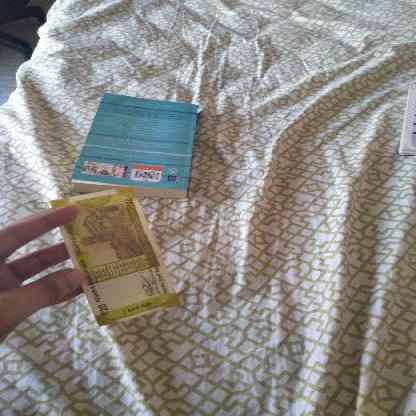New20Back: (55, 186, 177, 325)
